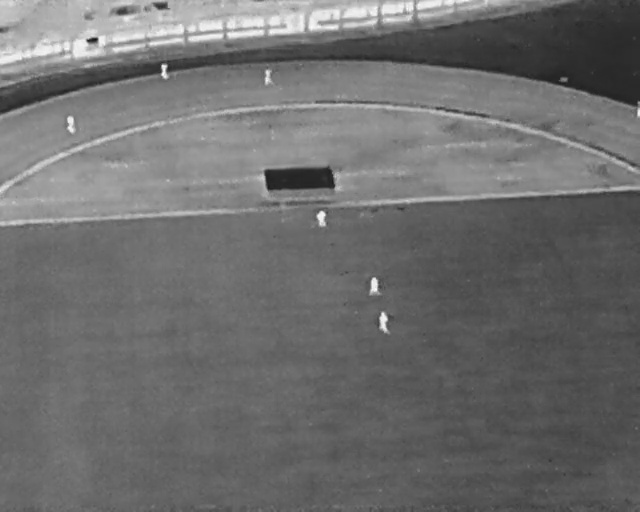Person: (378, 311, 391, 335), (369, 276, 381, 296), (316, 208, 328, 228), (66, 116, 76, 135), (264, 68, 274, 86), (161, 63, 170, 80), (636, 100, 640, 117)
